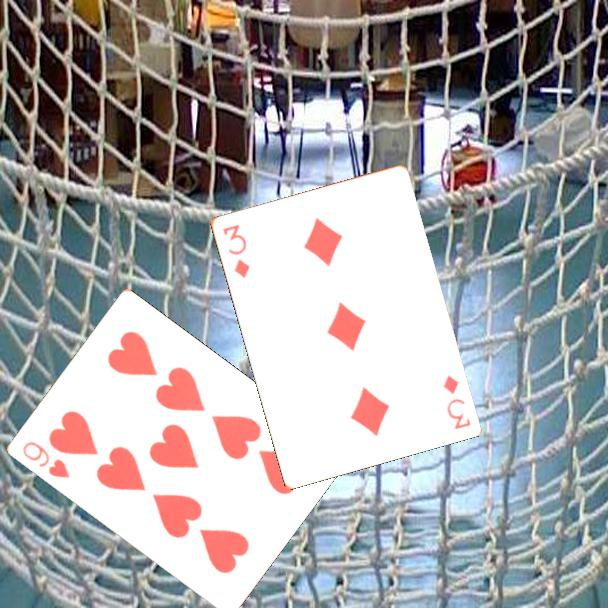d03: (439, 371, 473, 432), (219, 221, 253, 281)
h09: (18, 438, 72, 481)
